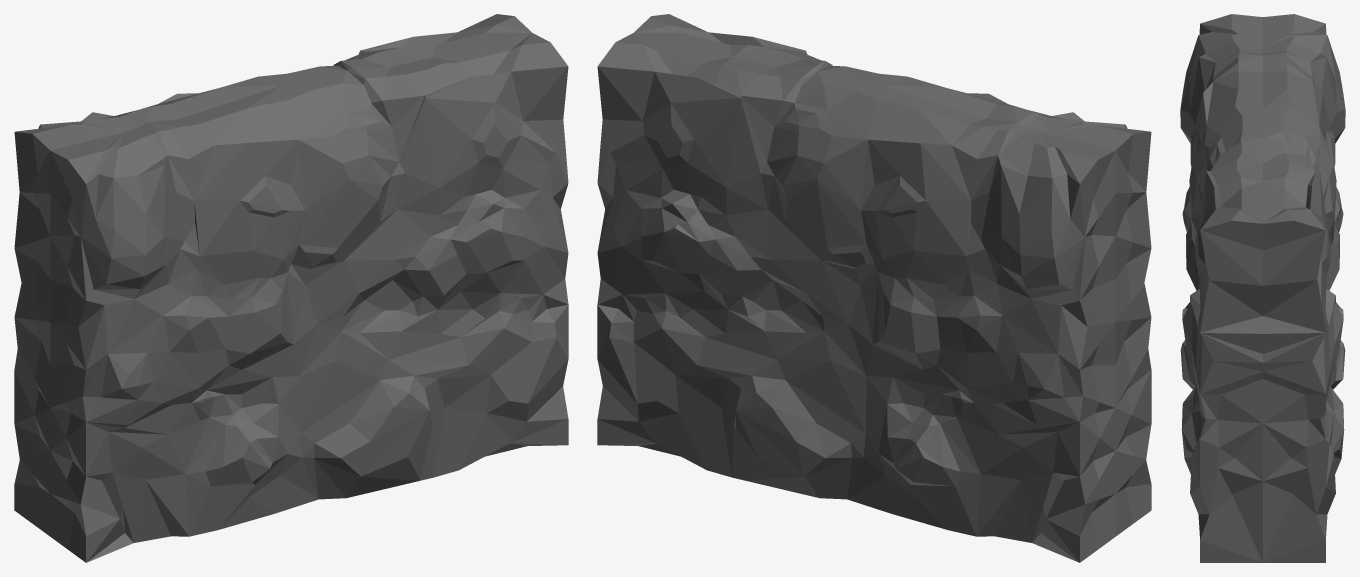
Rendered from RockWall.fbx.
3 views of the same model, side by side, from view 1: azimuth 30°, elevation 25°; view 2: azimuth 150°, elevation 25°; view 3: azimuth 270°, elevation 25° (orthographic). The views are drawn at different scales.
Parts seen in each view (by area): view 1: rock.ver03.002; view 2: rock.ver03.002; view 3: rock.ver03.002.
Part boxes in pixels (left/top/right/bottom): rock.ver03.002: left=14, top=14, right=568, bottom=562; rock.ver03.002: left=597, top=14, right=1151, bottom=562; rock.ver03.002: left=1180, top=14, right=1345, bottom=562.
Size of the model in its own units: 287 by 96.91 by 225.
Materials: 1 (1 with a texture image).
